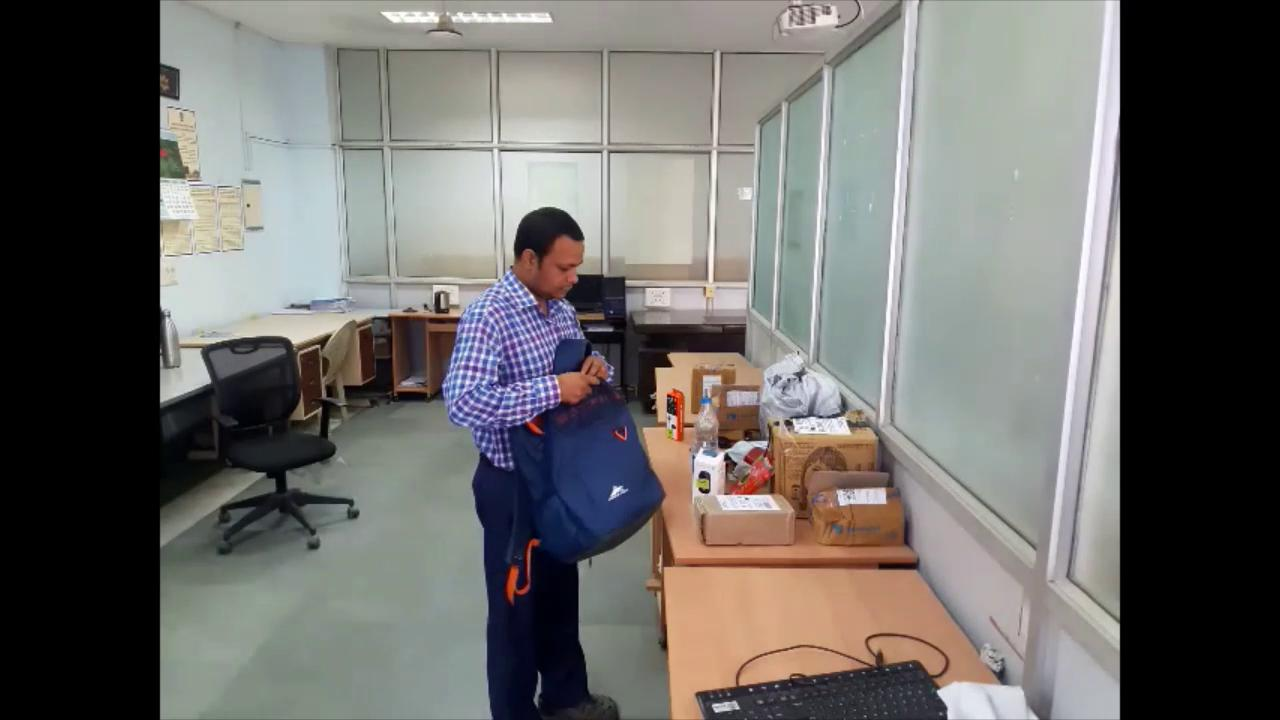shoplifting: (435, 208, 666, 720)
